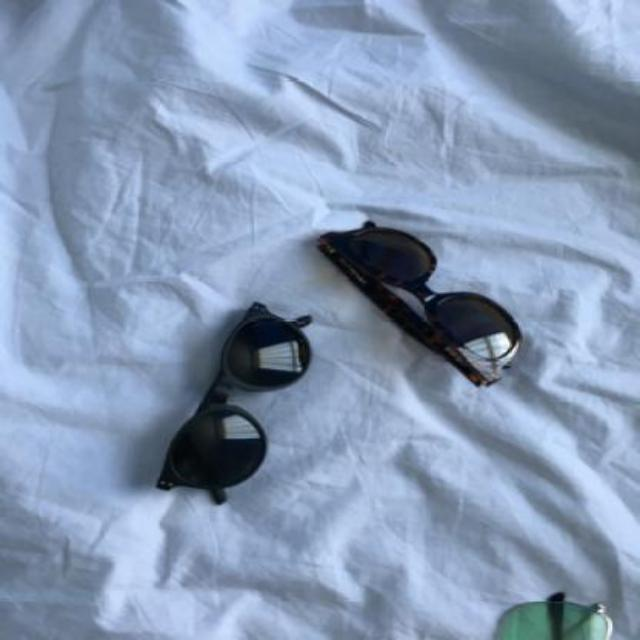sunglasses: (316, 218, 522, 386), (153, 302, 311, 503)
